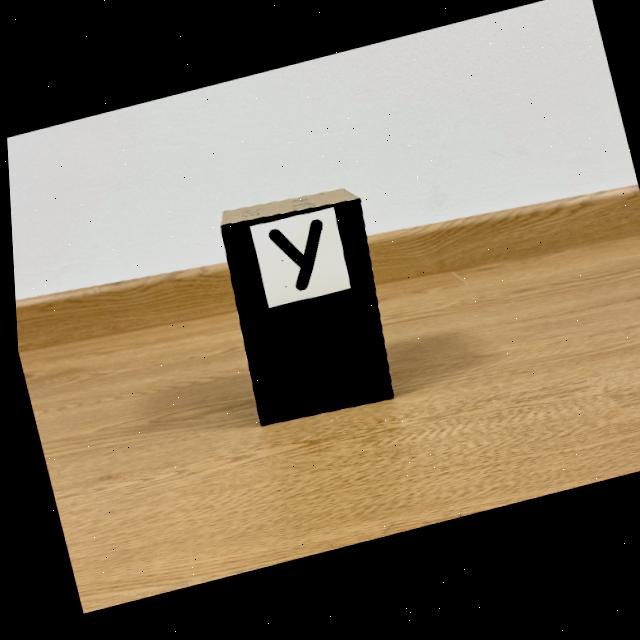Y: (266, 223, 320, 294)
